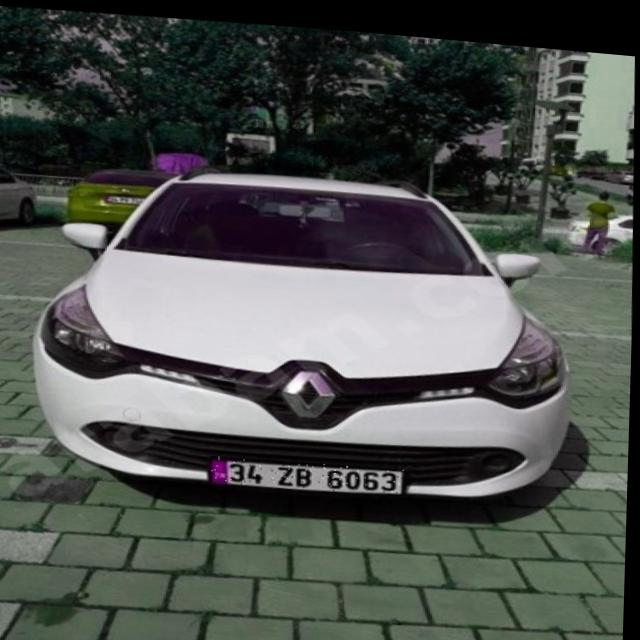license_plate: (212, 449, 406, 491)
